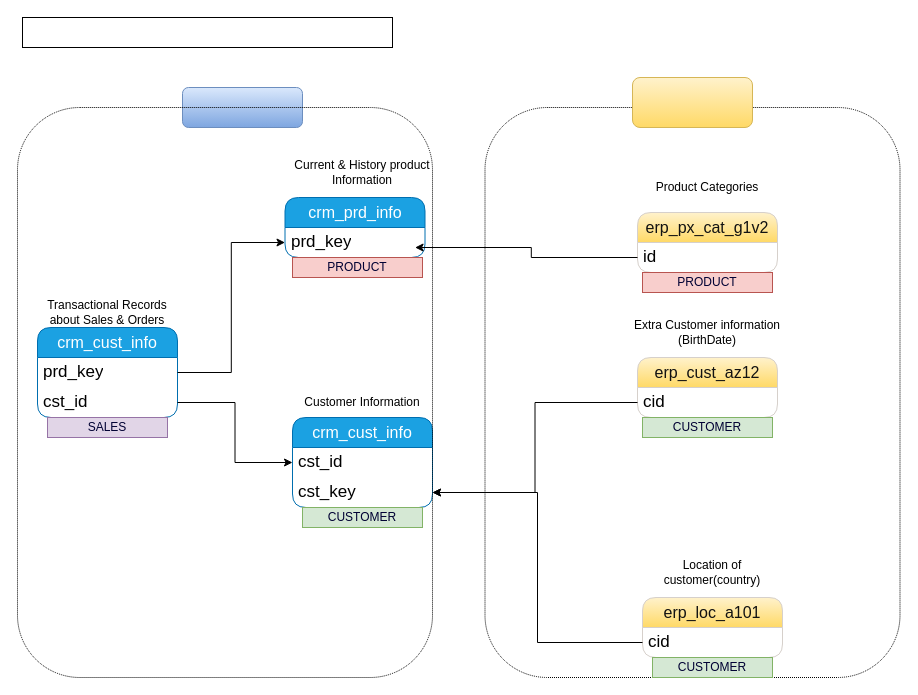
Some shapes in this 918 by 695 pixel diagram are drawn without their labels. The centre of each missing label's shape, as x and y in pixels:
CRM: [242,107]
ERP: [692,102]
Integration Model: [207,32]
